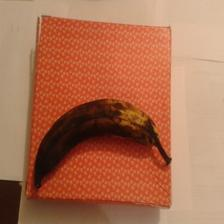Banana Rotten: (24, 104, 178, 181)
